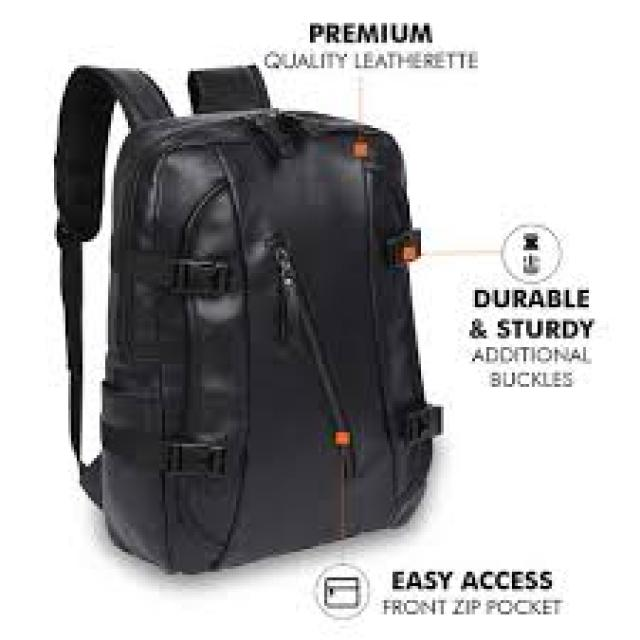backpack: (52, 61, 445, 576)
